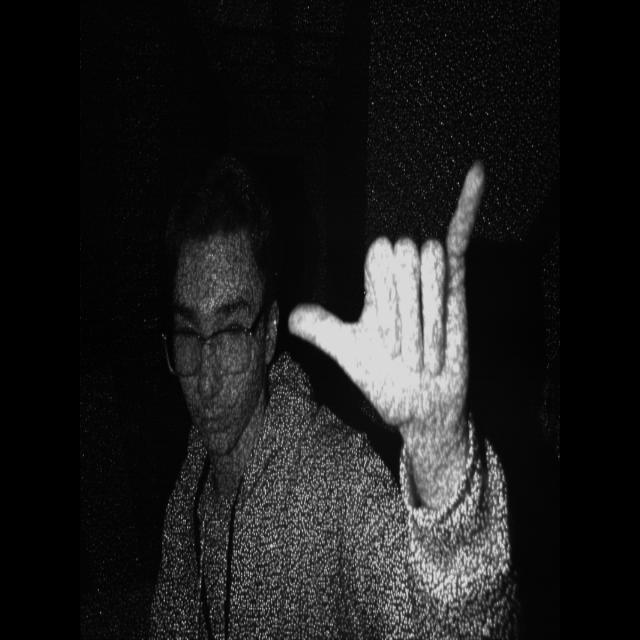Y: (284, 151, 515, 438)
